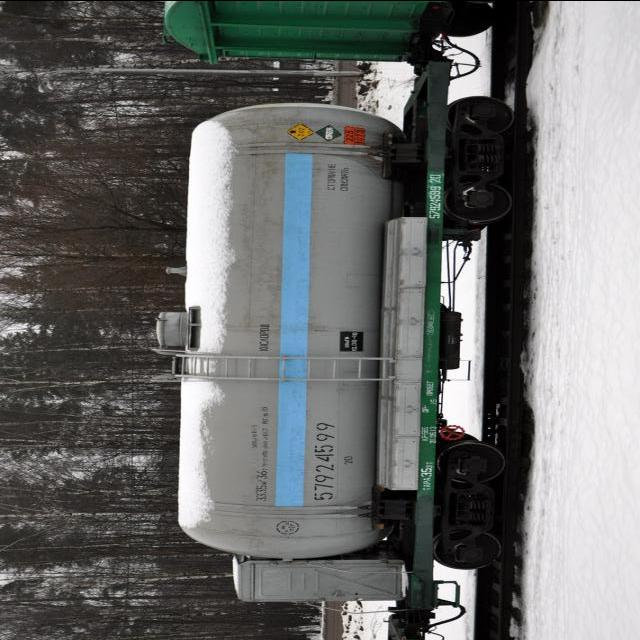wagon: (309, 419, 344, 502), (424, 182, 446, 220)
